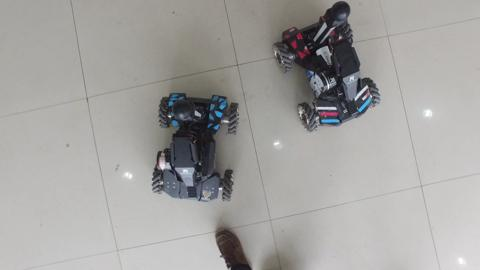chariot: (271, 1, 385, 137), (140, 90, 244, 211)
